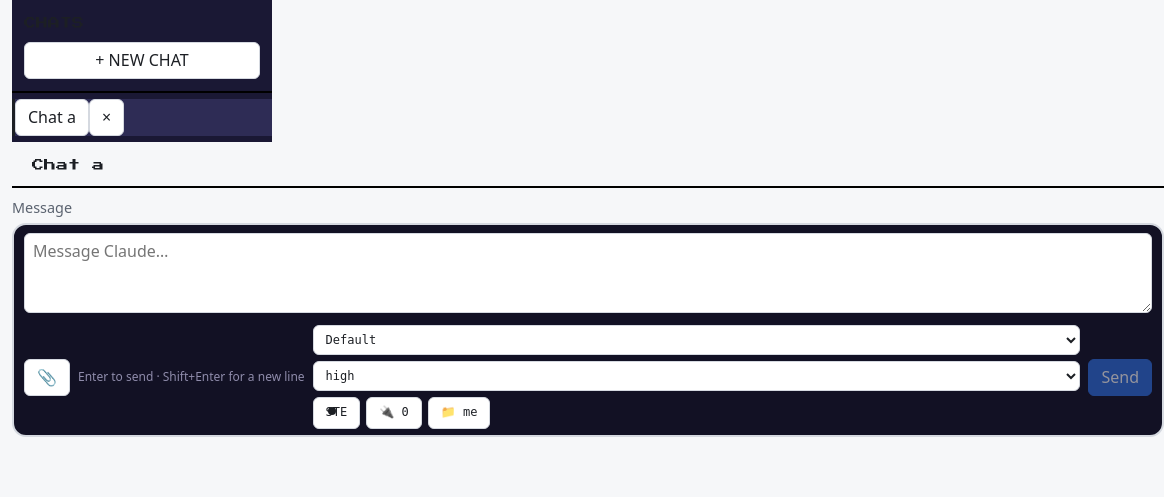
Test: a 409 send keeps the draft and shows the busy message
The width and height of the screenshot is (1164, 497).
Type "again" into the text box labelled "Message" at (588, 273), box [24,233,1152,313]
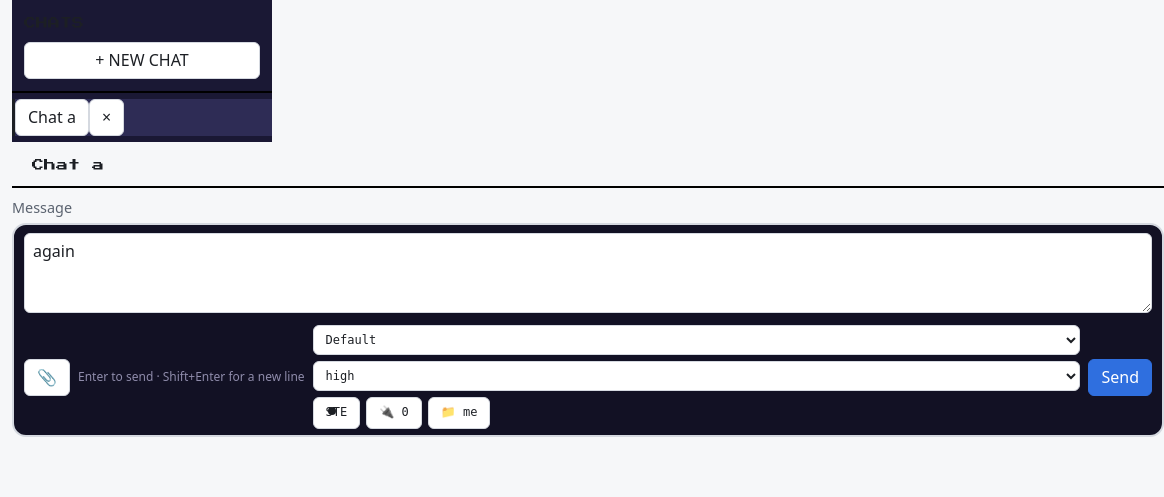
Press Enter in the text box labelled "Message", box [24,233,1152,313]
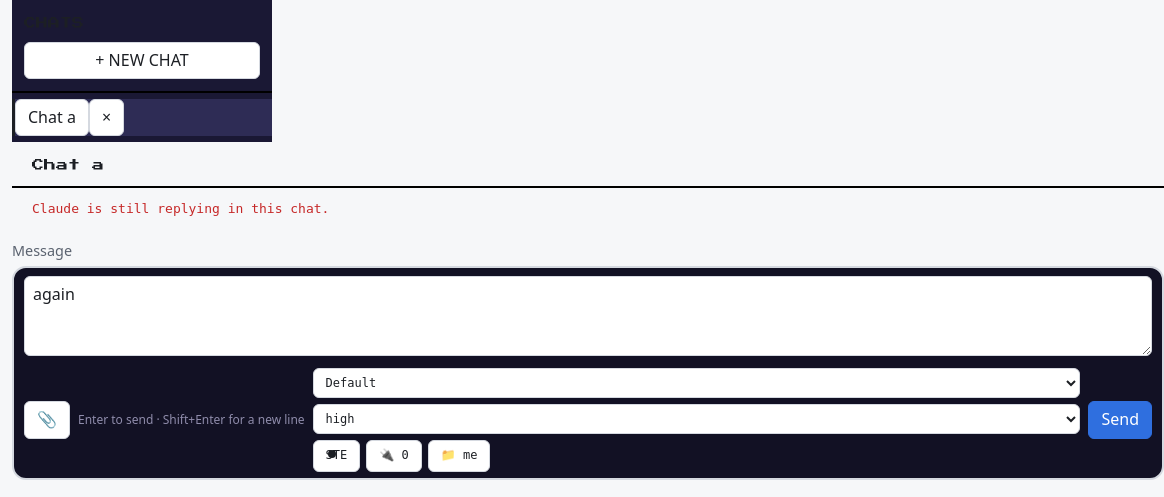
Now the message reads "Claude is still replying in this chat.", box [32,201,329,216]
